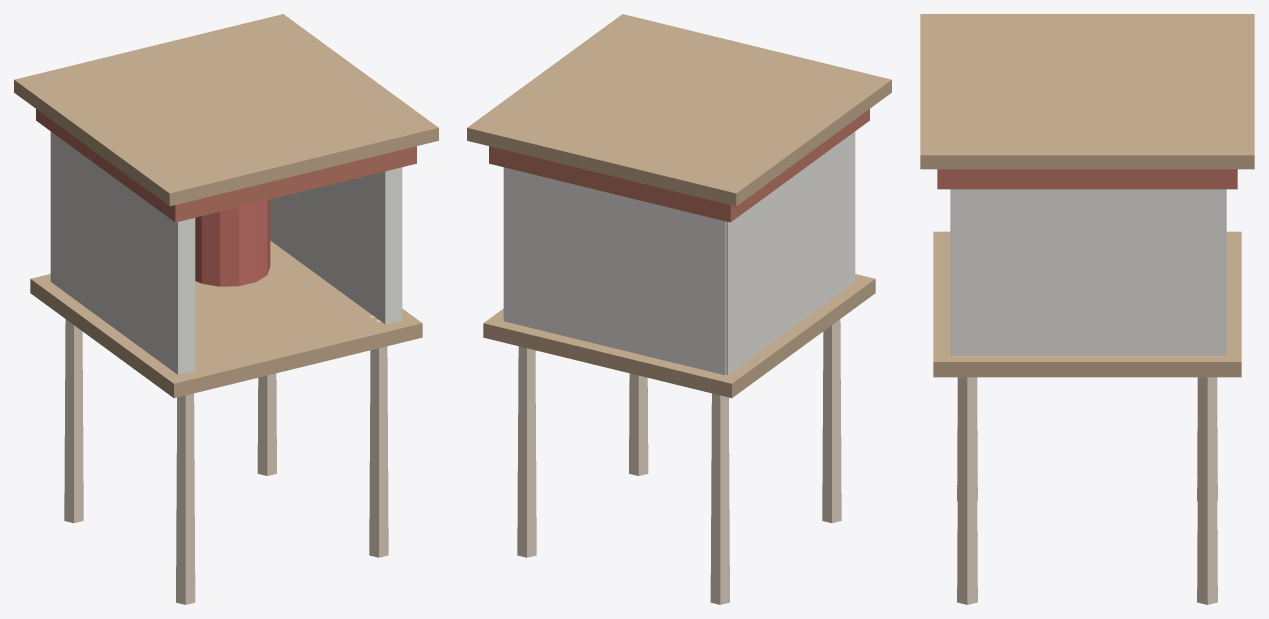
3 views of the same model, side by side, from view 1: azimuth 30°, elevation 25°; view 2: azimuth 150°, elevation 25°; view 3: azimuth 270°, elevation 25° (orthographic). The views are drawn at different scales.
Visible parts, largest first — view 1: WB_waterWheel; view 2: WB_waterWheel; view 3: WB_waterWheel.
Part boxes in pixels (bbox=[...]): WB_waterWheel: bbox=[14, 14, 438, 604]; WB_waterWheel: bbox=[467, 14, 891, 604]; WB_waterWheel: bbox=[920, 14, 1254, 604].
Size of the model in its own units: 3.9 by 5.98 by 3.9.
